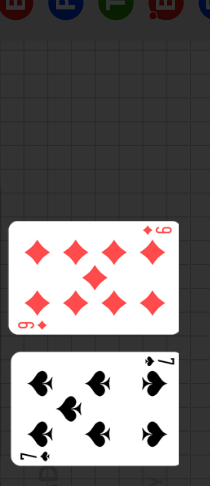7S: (18, 450, 53, 463)
9D: (141, 224, 174, 236)
